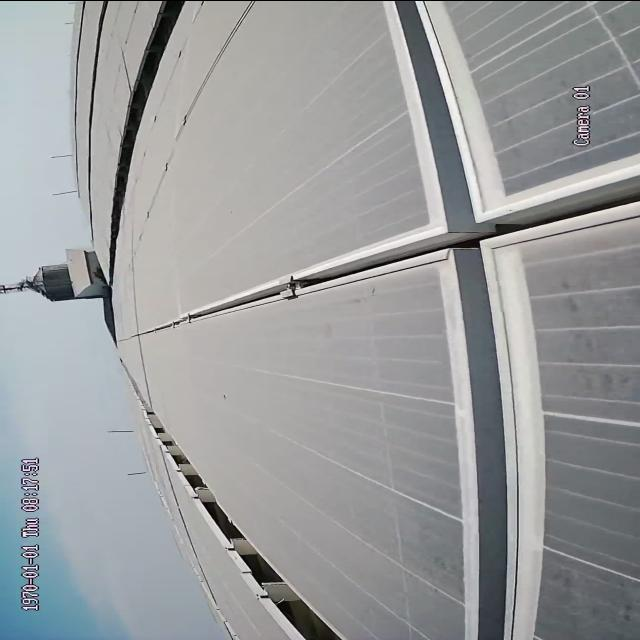interior panel: (387, 3, 638, 633), (147, 233, 414, 338)
outher panel: (139, 402, 347, 638), (112, 0, 197, 231)
